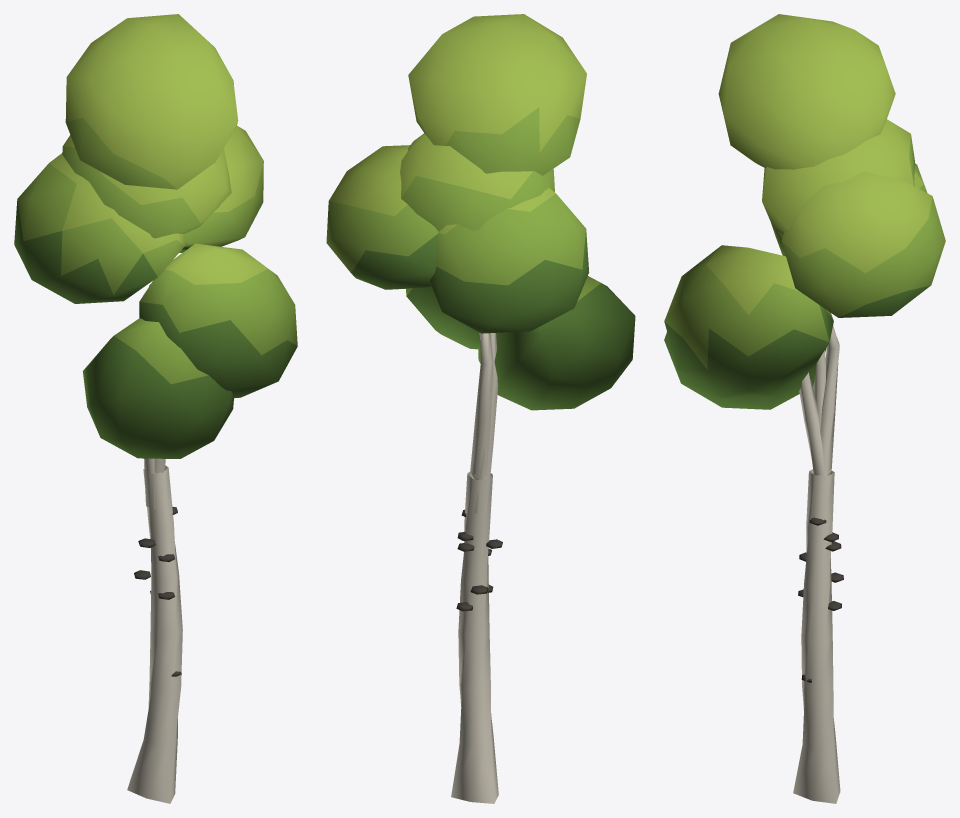
The model's file is BirchB_LOD.glb.
3 renders of one model, left to right at view 1: azimuth 30°, elevation 25°; view 2: azimuth 150°, elevation 25°; view 3: azimuth 270°, elevation 25°, orthographic.
Visible parts, largest first — view 1: BirchB_LOD.leafLight, BirchB_LOD.leafMid, BirchB_LOD.leafDark, BirchB_LOD.bark, BirchB_LOD.barkMark; view 2: BirchB_LOD.leafLight, BirchB_LOD.leafDark, BirchB_LOD.leafMid, BirchB_LOD.bark, BirchB_LOD.barkMark; view 3: BirchB_LOD.leafLight, BirchB_LOD.leafMid, BirchB_LOD.bark, BirchB_LOD.leafDark, BirchB_LOD.barkMark.
Part boxes in pixels (left/top/right/bottom): BirchB_LOD.leafLight: left=49, top=14, right=268, bottom=284; BirchB_LOD.leafMid: left=17, top=117, right=297, bottom=384; BirchB_LOD.leafDark: left=14, top=200, right=297, bottom=458; BirchB_LOD.bark: left=127, top=284, right=182, bottom=803; BirchB_LOD.barkMark: left=134, top=506, right=181, bottom=676; BirchB_LOD.leafLight: left=329, top=14, right=586, bottom=234; BirchB_LOD.leafDark: left=351, top=229, right=635, bottom=410; BirchB_LOD.leafMid: left=326, top=107, right=600, bottom=301; BirchB_LOD.bark: left=451, top=333, right=498, bottom=803; BirchB_LOD.barkMark: left=456, top=509, right=502, bottom=611; BirchB_LOD.leafLight: left=706, top=14, right=932, bottom=314; BirchB_LOD.leafMid: left=664, top=135, right=945, bottom=369; BirchB_LOD.bark: left=793, top=325, right=840, bottom=803; BirchB_LOD.leafDark: left=664, top=223, right=930, bottom=409; BirchB_LOD.barkMark: left=798, top=517, right=843, bottom=682.
Size of the model in its own units: 8.66 by 27.12 by 9.01.
